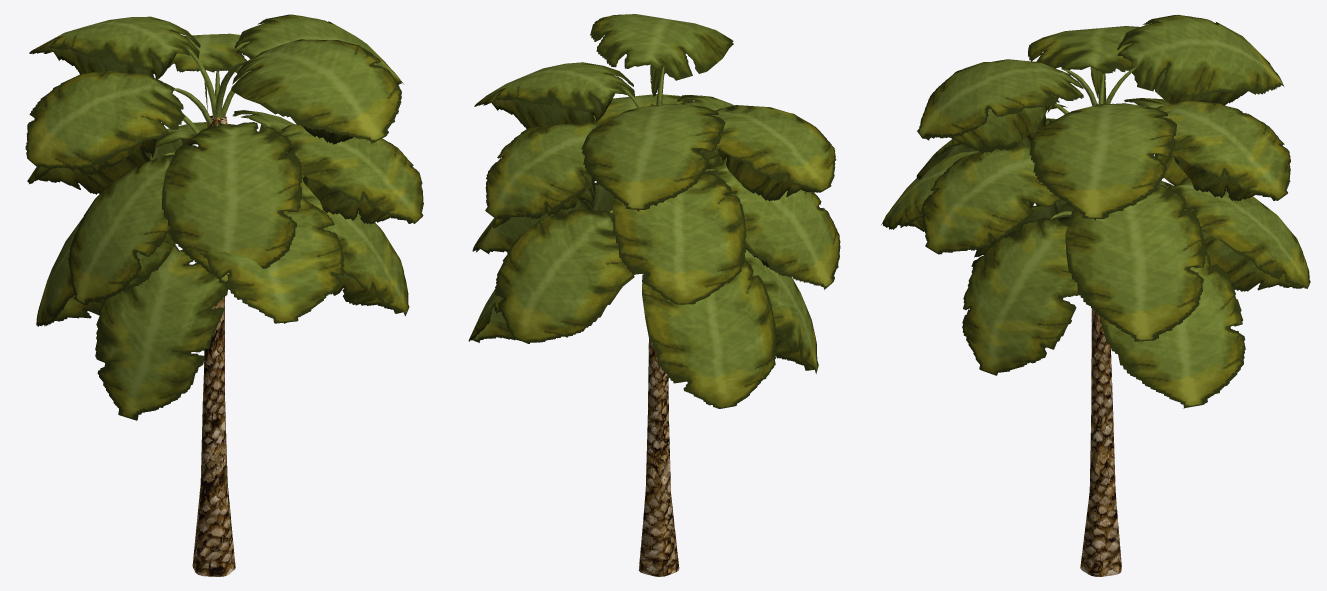
File: SM_TI_Palm_Tree_ChunkyLeaves_0.fbx
3 views of the same model, side by side, from view 1: azimuth 30°, elevation 25°; view 2: azimuth 150°, elevation 25°; view 3: azimuth 270°, elevation 25° (orthographic). The views are drawn at different scales.
Parts seen in each view (by area): view 1: SM_TI_Palm_Tree_ChunkyLeaves_0; view 2: SM_TI_Palm_Tree_ChunkyLeaves_0; view 3: SM_TI_Palm_Tree_ChunkyLeaves_0.
Part boxes in pixels (x1,y1,x2,y2): SM_TI_Palm_Tree_ChunkyLeaves_0: (25,14,423,576); SM_TI_Palm_Tree_ChunkyLeaves_0: (468,14,840,576); SM_TI_Palm_Tree_ChunkyLeaves_0: (881,14,1310,576).
Size of the model in its own units: 6.7 by 7.06 by 9.3.
